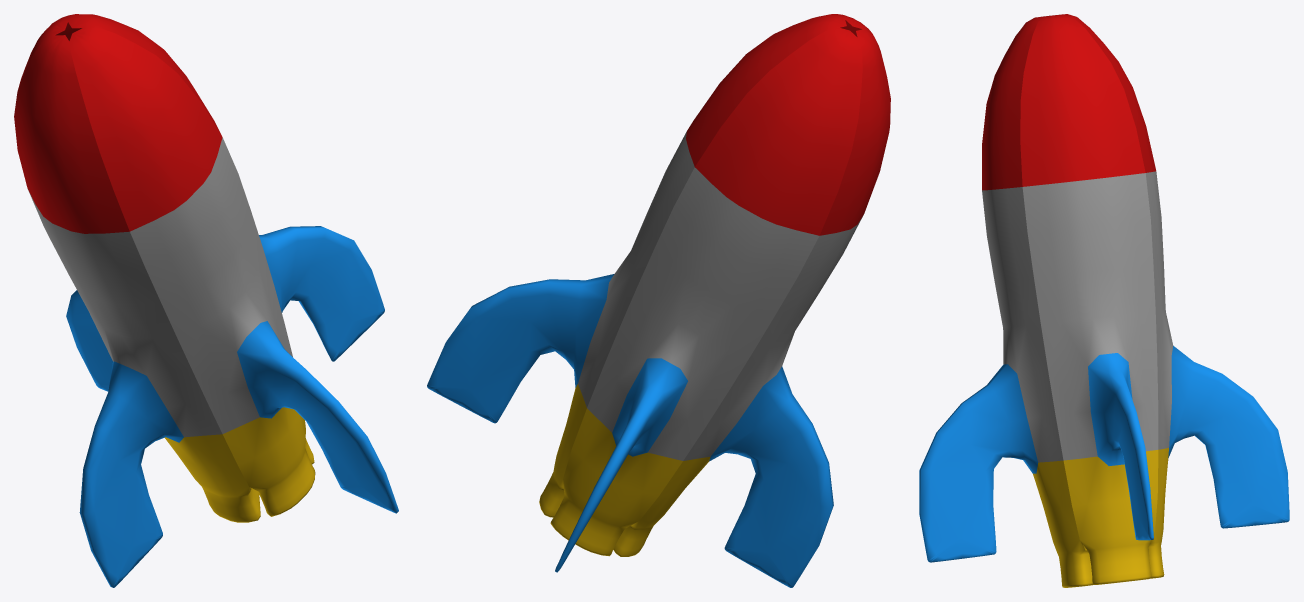
File: Powerup.fbx
3 renders of one model, left to right at view 1: azimuth 30°, elevation 25°; view 2: azimuth 150°, elevation 25°; view 3: azimuth 270°, elevation 25°, orthographic. The views are drawn at different scales.
Parts seen in each view (by area): view 1: Cylinder004; view 2: Cylinder004; view 3: Cylinder004.
Part boxes in pixels (bbox=[...]): Cylinder004: bbox=[14, 14, 398, 587]; Cylinder004: bbox=[427, 14, 890, 587]; Cylinder004: bbox=[919, 14, 1289, 587].
Bounding box in the file's own units: 97.76 × 133 × 87.34.
